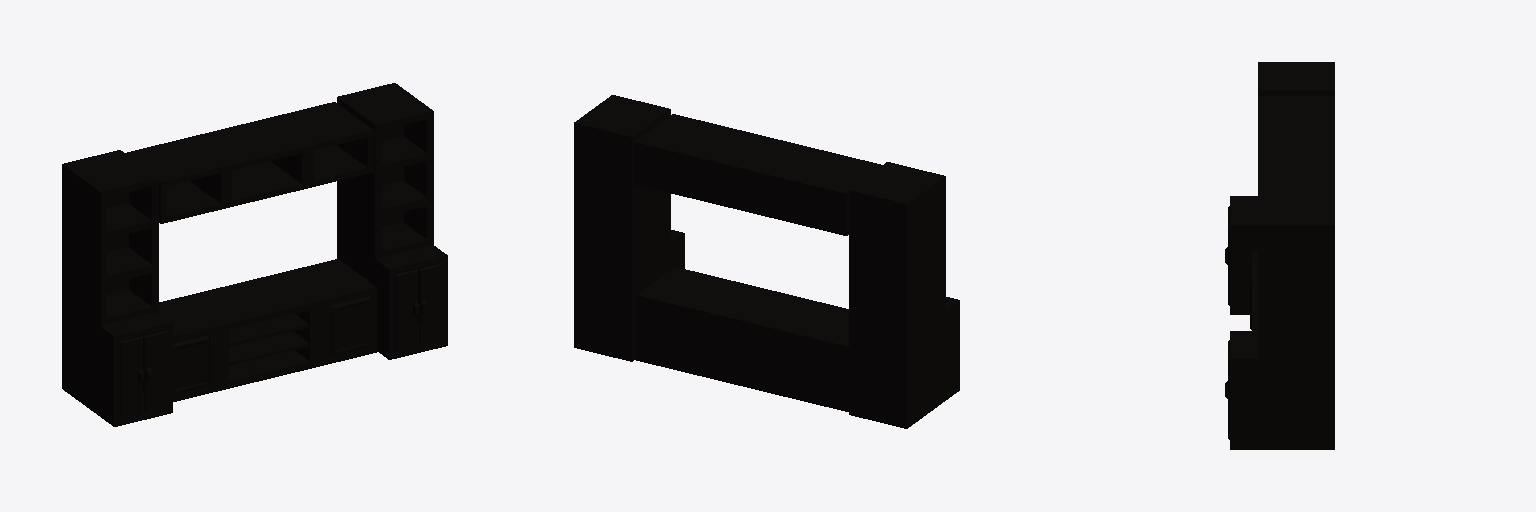
Rendered from EntertainmentCenter.obj.
The picture shows the model from 3 angles: view 1: azimuth 30°, elevation 25°; view 2: azimuth 150°, elevation 25°; view 3: azimuth 270°, elevation 25°; orthographic projection.
Visible parts, largest first — view 1: EntertainmentCenter_Cube.013; view 2: EntertainmentCenter_Cube.013; view 3: EntertainmentCenter_Cube.013.
Boxes of the visible parts, x1,y1,x2,y2 form: EntertainmentCenter_Cube.013: [62, 83, 447, 426]; EntertainmentCenter_Cube.013: [574, 95, 959, 428]; EntertainmentCenter_Cube.013: [1225, 62, 1334, 449].
Size of the model in its own units: 11.6 by 7.49 by 3.32.